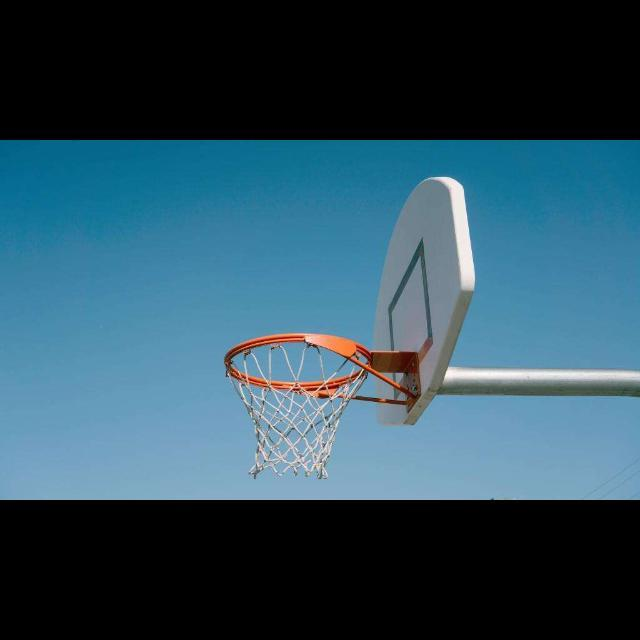rim: (226, 334, 372, 480)
